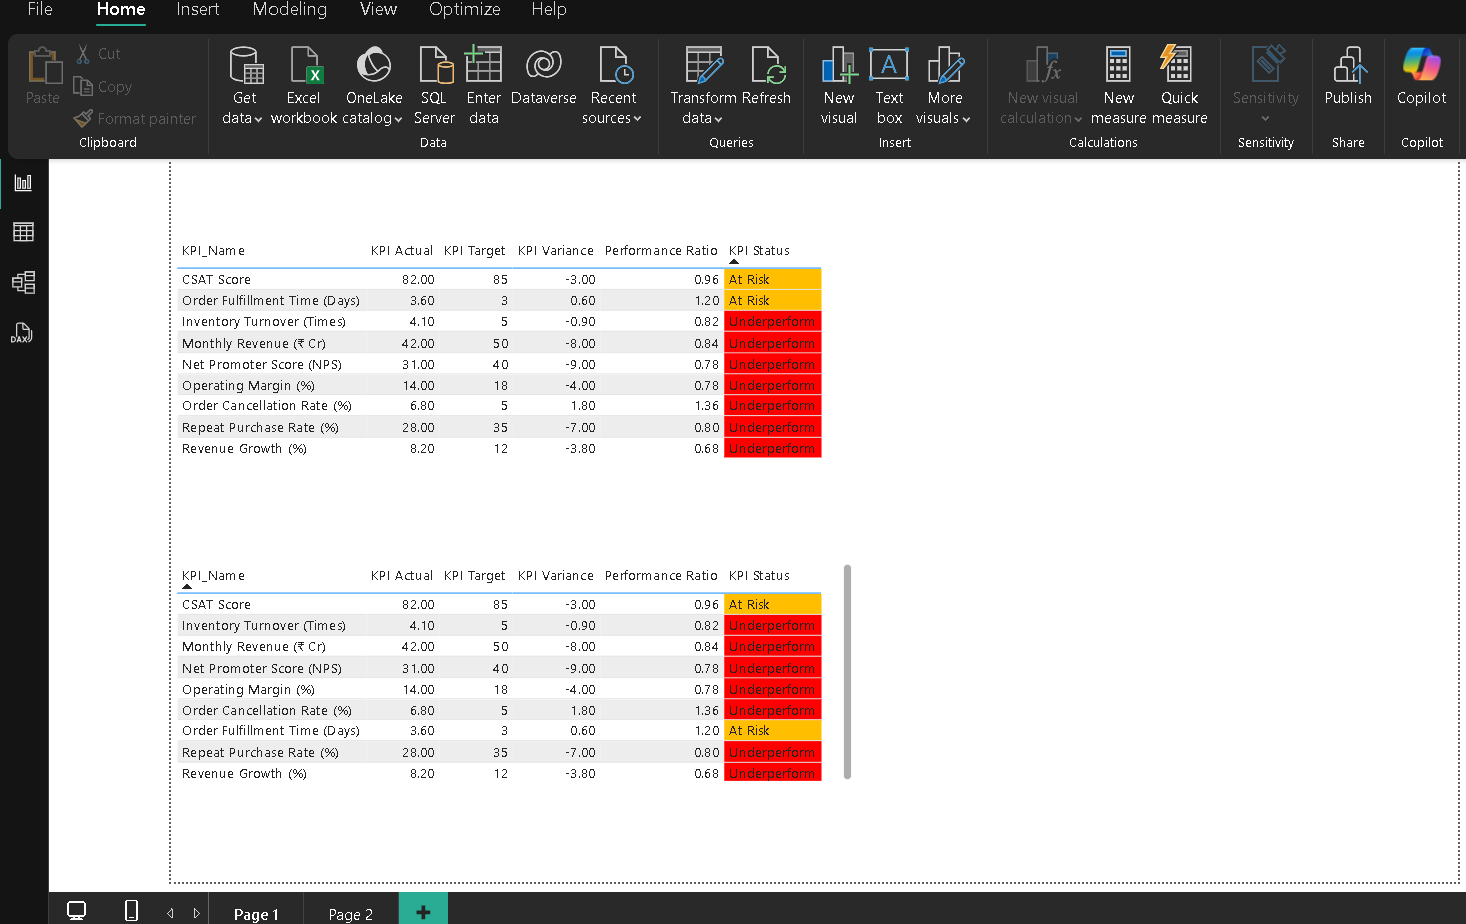

Layout of this report page (visuals, bound fields, positions):
{"tool":"powerbi","page":{"name":"Page 1","canvas":[1280,720],"ordinal":0},"visuals":[{"type":"tableEx","fields":{"Values":["KPI_Master.KPI_Name","KPI_Master.KPI Actual","KPI_Master.KPI Target","KPI_Master.KPI Variance","KPI_Master.Performance Ratio","KPI_Master.KPI Status"]},"box":[0,74.3,682.9,228.6],"z":0},{"type":"tableEx","fields":{"Values":["KPI_Master.KPI_Name","KPI_Master.KPI Actual","KPI_Master.KPI Target","KPI_Master.KPI Variance","KPI_Master.Performance Ratio","KPI_Master.KPI Status"]},"box":[0,398.6,682.9,225.7],"z":1000}]}

Visuals, with their boxes on the page's 1280x720 design canvas (x1, y1, x2, y2). These are canvas units, not pixel positions in the 1466x924 screenshot, which may show the page scaled, cropped or inside an application window:
tableEx - KPI_Master.KPI_Name x KPI_Master.KPI Actual: (0,74,683,303)
tableEx - KPI_Master.KPI_Name x KPI_Master.KPI Actual: (0,399,683,624)
